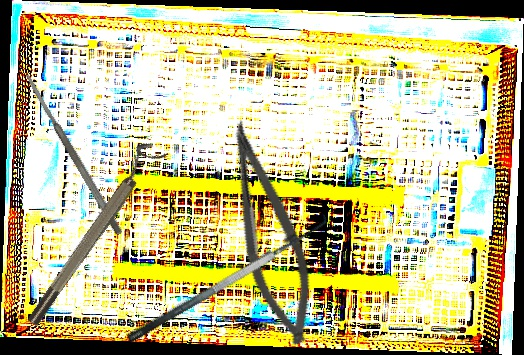Fixation Ring: (16, 138, 167, 329)
Micro Scissor: (202, 114, 334, 353)
Spatula Surgical: (116, 205, 335, 345), (22, 71, 125, 237)
